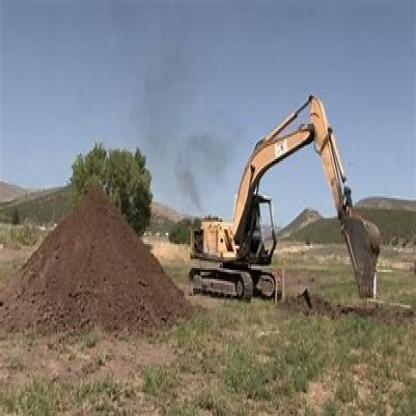excavator: (181, 63, 385, 323)
